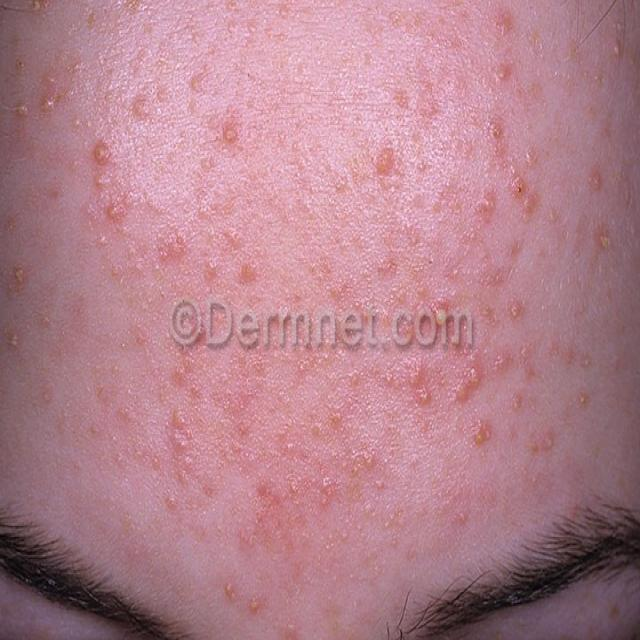blackheads: (90, 136, 113, 187), (340, 445, 381, 471), (201, 249, 228, 287), (374, 141, 397, 183), (129, 92, 158, 124), (102, 191, 127, 228), (487, 104, 505, 151), (413, 368, 433, 409), (219, 111, 241, 148), (2, 317, 21, 354), (163, 483, 182, 516), (474, 415, 492, 449), (188, 62, 207, 93), (221, 578, 242, 606), (279, 474, 308, 494), (494, 59, 513, 85), (540, 428, 557, 456), (37, 379, 54, 405), (93, 227, 112, 250), (11, 265, 26, 293), (509, 295, 524, 323), (172, 400, 184, 433), (67, 108, 85, 130), (316, 486, 333, 508), (500, 11, 515, 34), (609, 36, 623, 60), (592, 168, 604, 195), (38, 92, 55, 111), (512, 387, 524, 412), (246, 597, 262, 611), (578, 389, 590, 407), (527, 147, 536, 165), (16, 104, 25, 114)
